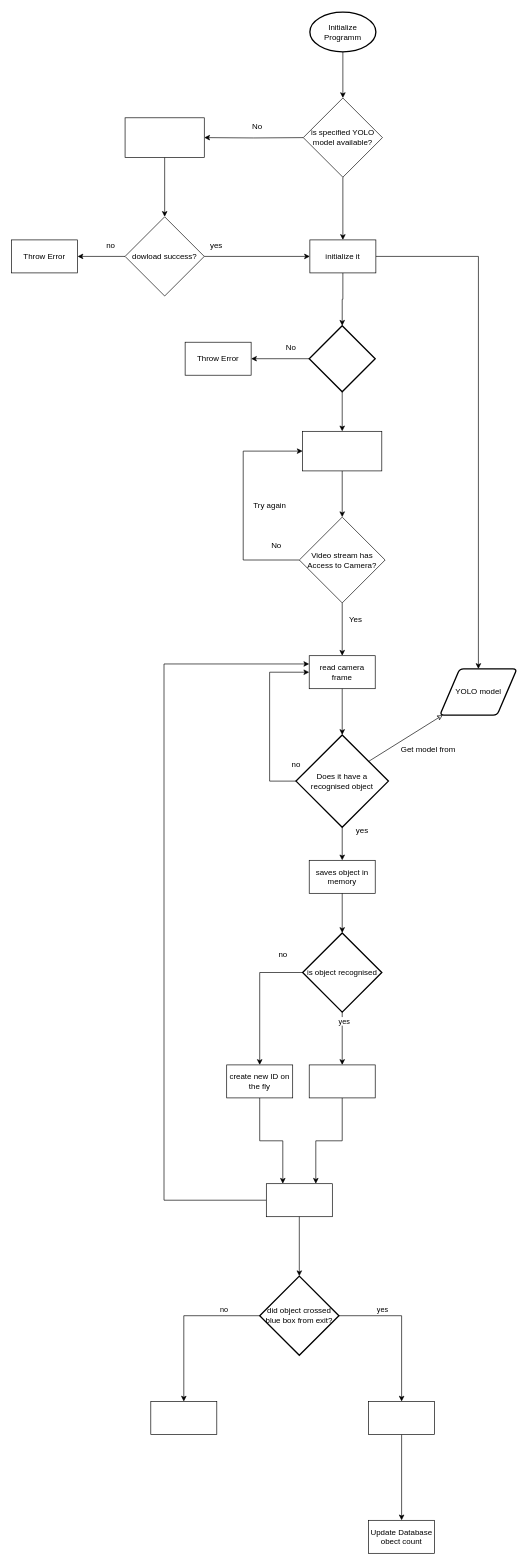
This 529x1565 diagram has some shape labels left out. Each missing label, with the centre of its shape:
"Connect camera with video stream" belongs at point 342,451.
"Counter +1" belongs at point 401,1418.
"Draw box around the object" belongs at point 299,1200.
"Get Data from saved object" belongs at point 342,1081.
"ignore" belongs at point 183,1418.
"Is camera available" belongs at point 342,358.
"try download it" belongs at point 164,137.
